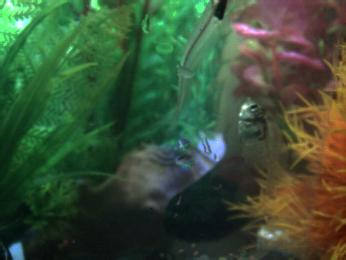X-ray fish: (235, 95, 284, 183)
glassfish: (163, 1, 234, 124)
